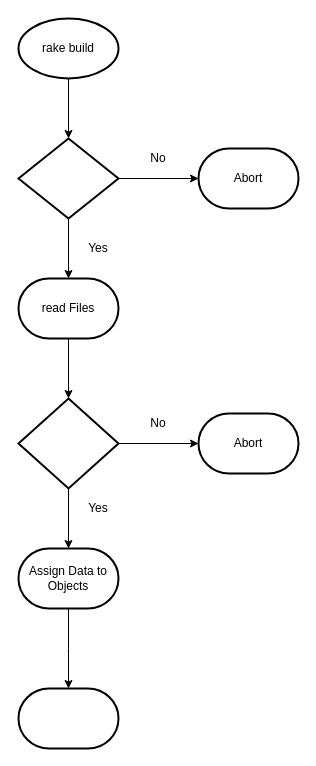
Image size: 316x766. Some labels were removed from this diagram. Each missing label, with the box of its shape:
Create templates: (17, 687, 119, 749)
Data valid?: (17, 397, 119, 489)
Files exist?: (17, 137, 119, 219)
